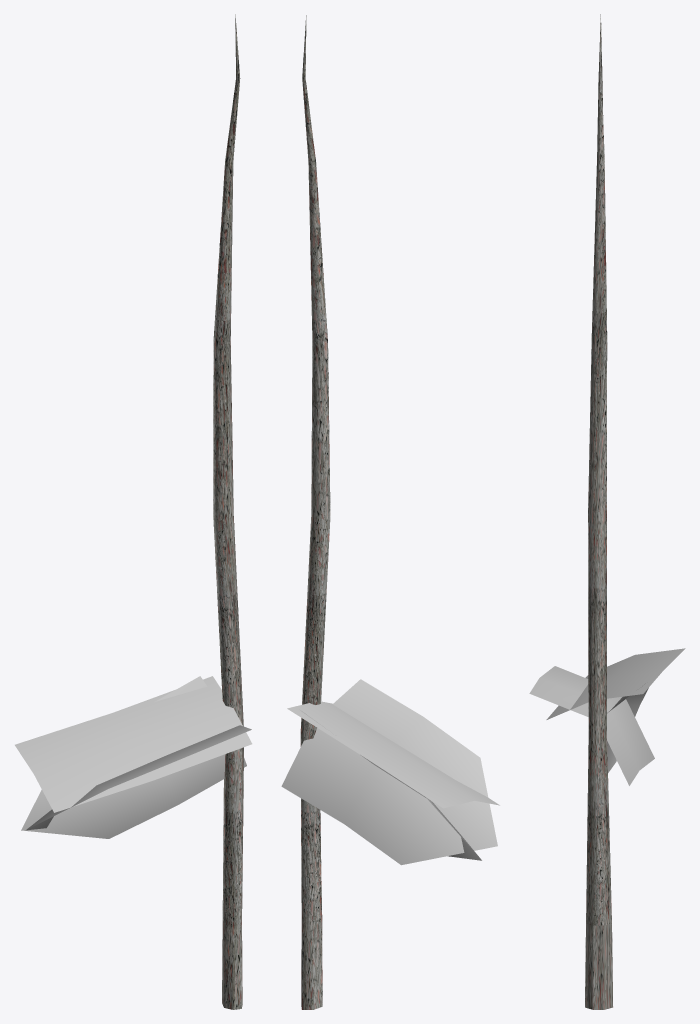
File: NF_tree_2_FrondSample.fbx
3 renders of one model, left to right at view 1: azimuth 30°, elevation 25°; view 2: azimuth 150°, elevation 25°; view 3: azimuth 270°, elevation 25°, orthographic.
Parts seen in each view (by area): view 1: polySurface2, Frond027, Frond026, Frond024; view 2: Frond024, polySurface2, Frond027, Frond026; view 3: polySurface2, Frond024, Frond027, Frond026.
Part boxes in pixels (x1,y1,x2,y2): polySurface2: [213, 14, 243, 1009]; Frond027: [15, 676, 252, 812]; Frond026: [21, 676, 246, 838]; Frond024: [26, 725, 251, 830]; Frond024: [281, 679, 497, 865]; polySurface2: [300, 15, 330, 1009]; Frond027: [287, 701, 499, 808]; Frond026: [300, 710, 481, 860]; polySurface2: [585, 14, 612, 1009]; Frond024: [529, 666, 654, 785]; Frond027: [546, 648, 685, 719]; Frond026: [600, 683, 648, 778].
Size of the model in its own units: 10.67 by 47.45 by 6.76.
